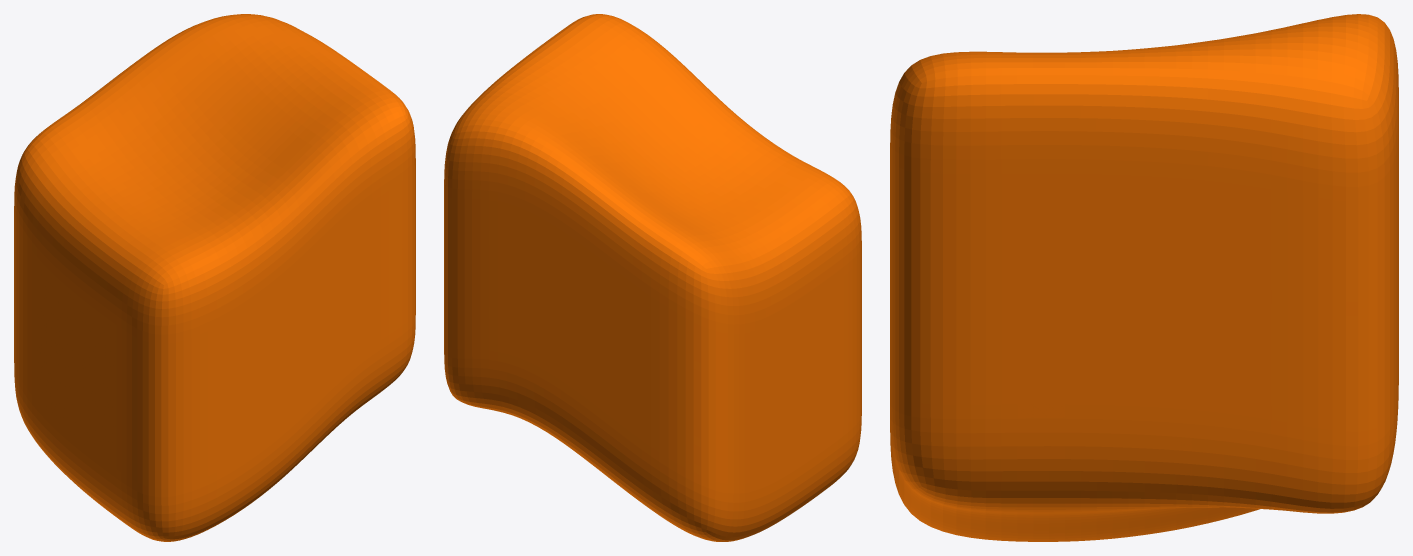
3 renders of one model, left to right at view 1: azimuth 30°, elevation 25°; view 2: azimuth 150°, elevation 25°; view 3: azimuth 270°, elevation 25°, orthographic. The views are drawn at different scales.
Visible parts, largest first — view 1: smooth_1_base.024; view 2: smooth_1_base.024; view 3: smooth_1_base.024.
Boxes of the visible parts, x1,y1,x2,y2 form: smooth_1_base.024: (14,14,415,541); smooth_1_base.024: (444,14,861,541); smooth_1_base.024: (890,14,1398,541).
Bounding box in the file's own units: 60 × 81.43 × 60.
